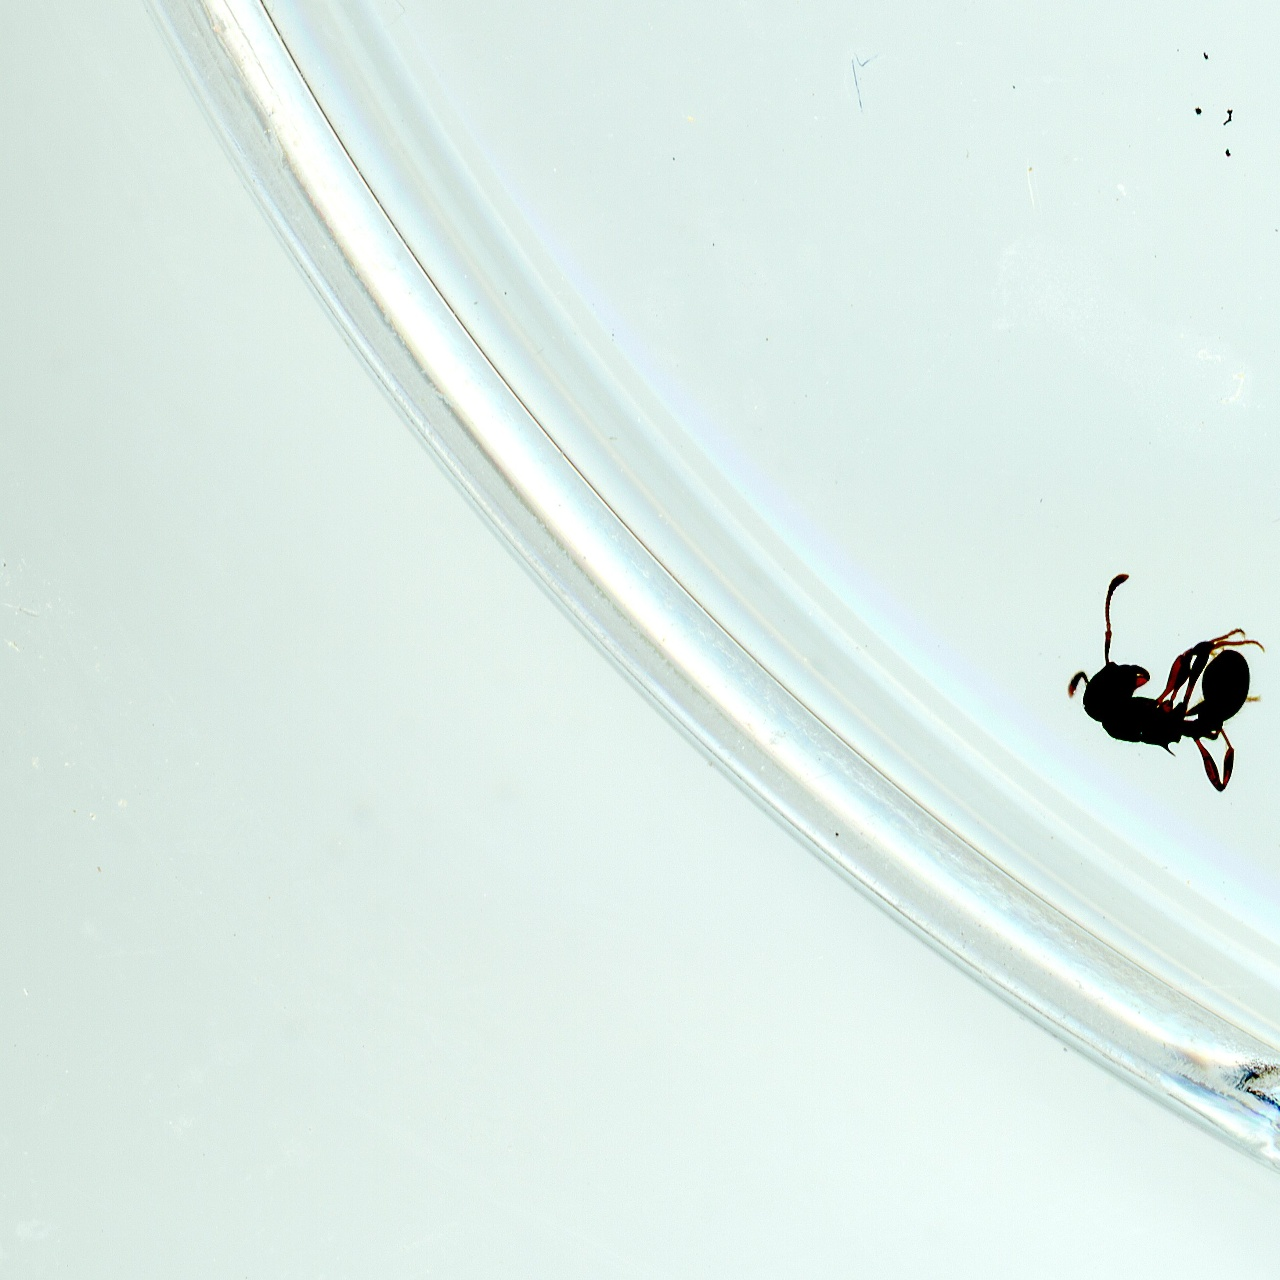arthropod: (1057, 568, 1280, 798)
